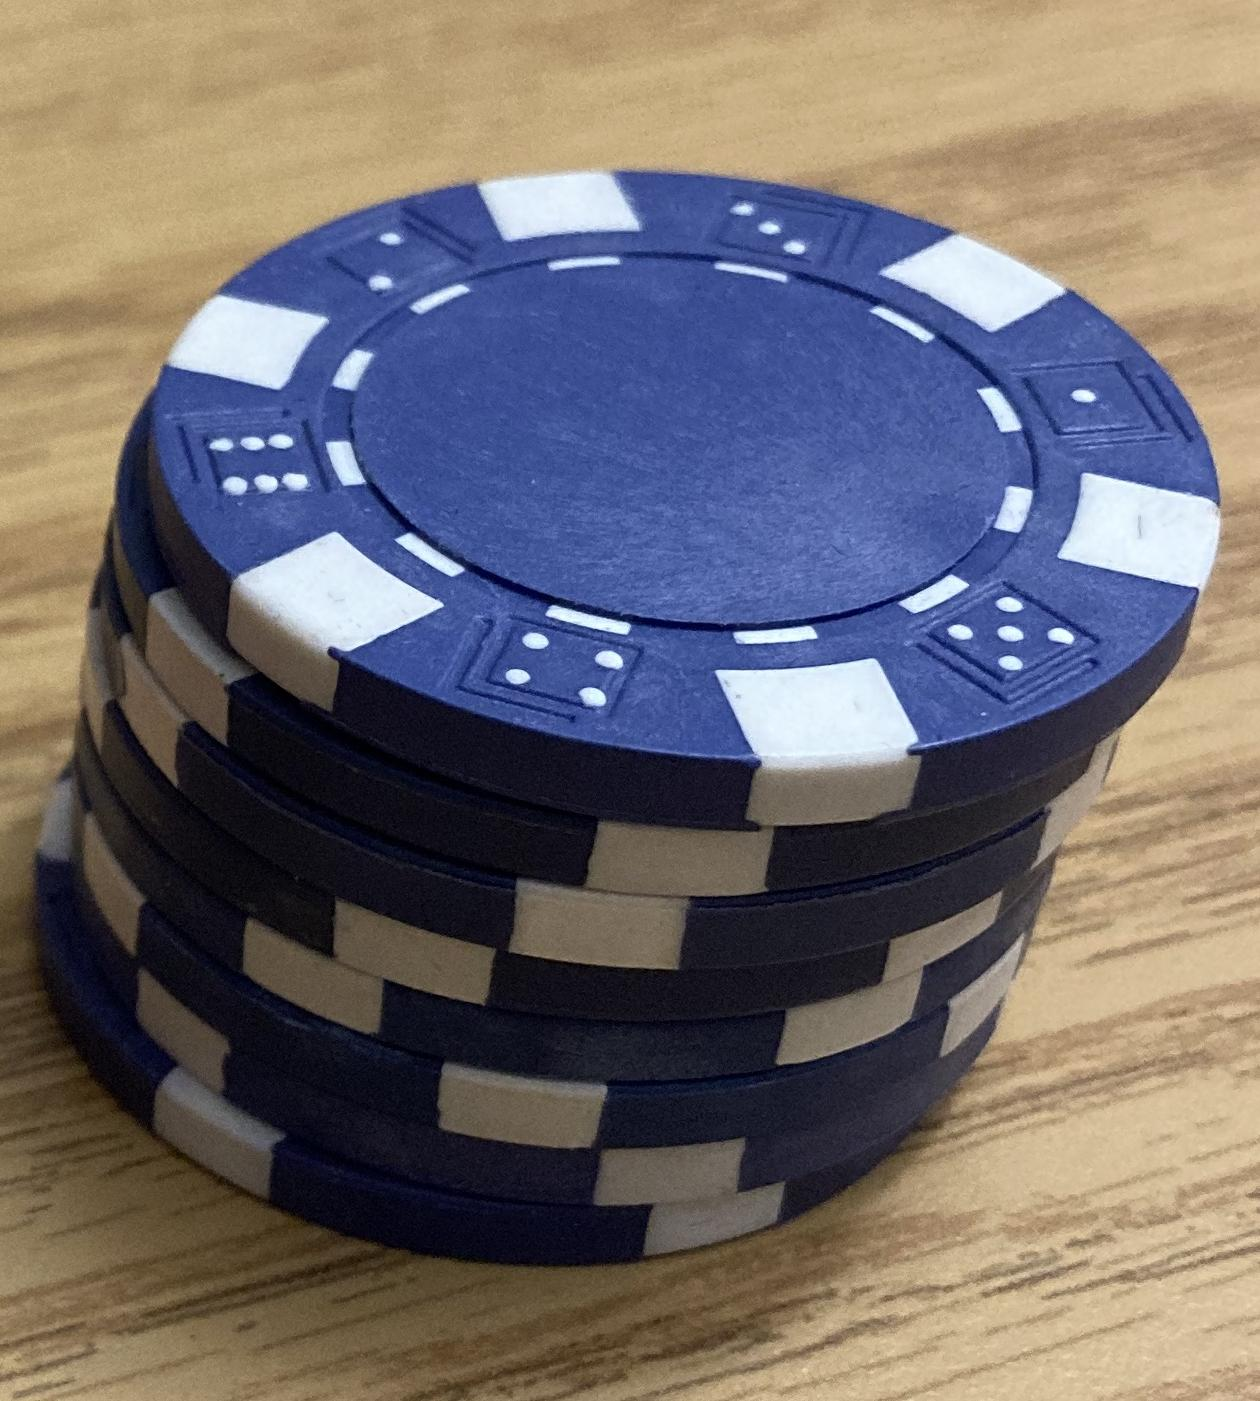Chip: (1, 1, 1260, 1401)
